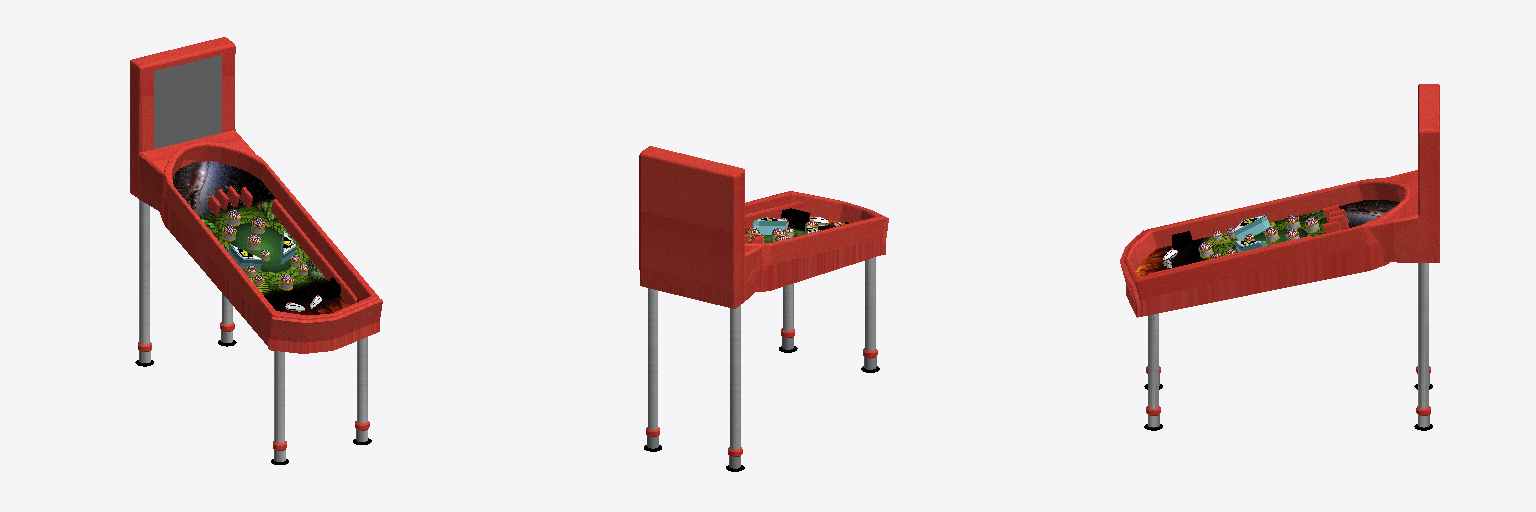
3 renders of one model, left to right at view 1: azimuth 30°, elevation 25°; view 2: azimuth 150°, elevation 25°; view 3: azimuth 270°, elevation 25°, orthographic.
Visible parts, largest first — view 1: PINBALL_V2:pTorus26; view 2: PINBALL_V2:pTorus26; view 3: PINBALL_V2:pTorus26.
Part boxes in pixels (x1,y1,x2,y2): PINBALL_V2:pTorus26: (130,37,382,464); PINBALL_V2:pTorus26: (639,146,888,471); PINBALL_V2:pTorus26: (1120,84,1439,430).
Size of the model in its own units: 5.55 by 15.03 by 14.58.
Materials: 16 (6 with a texture image).